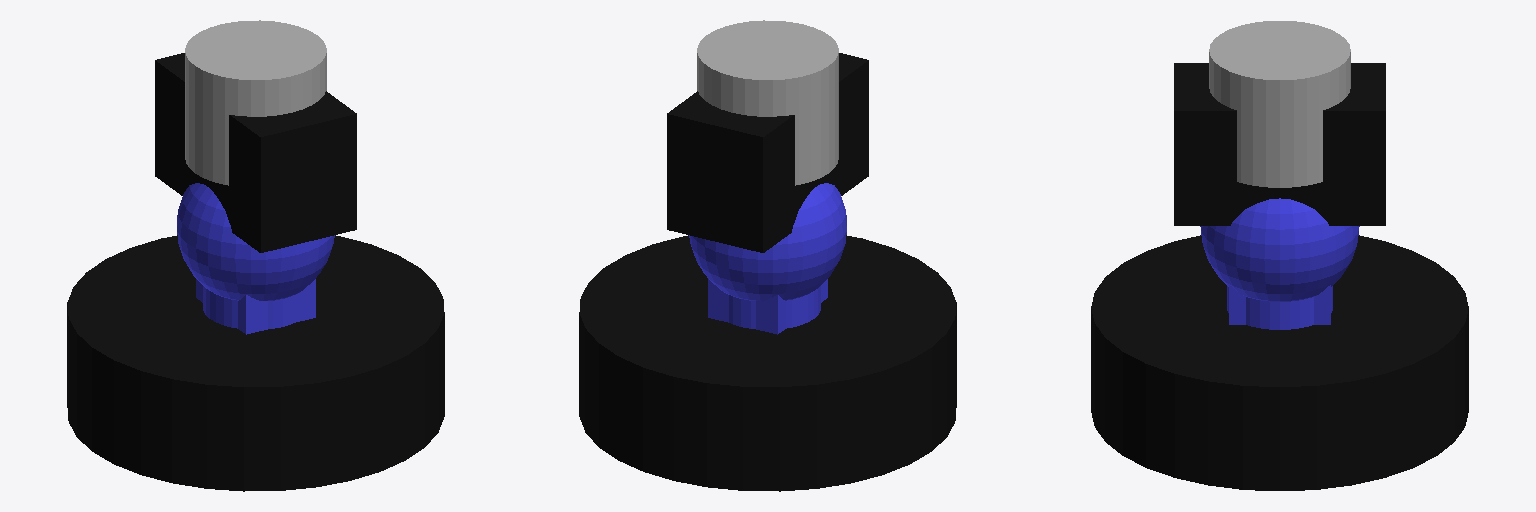
The robot description file, URDF, robot "evolved_robot":
<?xml version="1.0"?>
<robot name="evolved_robot">
  <material name="metal">
    <color rgba="0.7 0.7 0.7 1.0"/>
  </material>
  <material name="plastic">
    <color rgba="0.3 0.3 0.9 1.0"/>
  </material>
  <material name="rubber">
    <color rgba="0.1 0.1 0.1 1.0"/>
  </material>
  <material name="red">
    <color rgba="1.0 0.0 0.0 1.0"/>
  </material>
  <material name="wheel_material">
    <color rgba="0.2 0.2 0.2 1.0"/>
  </material>
  <link name="base_link">
    <visual>
      <geometry><cylinder radius="0.21050239946779015" length="0.12805940470670749"/></geometry>
      <material name="rubber"/>
    </visual>
    <collision>
      <geometry><cylinder radius="0.21050239946779015" length="0.12805940470670749"/></geometry>
    </collision>
    <inertial>
      <mass value="5.0"/>
      <inertia ixx="0.12444415973243968" ixy="0" ixz="0" 
               iyy="0.12444415973243968" iyz="0" 
               izz="0.2215563009084855"/>
    </inertial>
  </link>
  <link name="link1">
    <visual>
      <geometry><cylinder radius="0.05935357784268451" length="0.07570931910548462"/></geometry>
      <material name="plastic"/>
    </visual>
    <collision>
      <geometry><cylinder radius="0.05935357784268451" length="0.07570931910548462"/></geometry>
    </collision>
    <inertial>
      <mass value="0.5"/>
      <inertia ixx="0.0013583702172999107" ixy="0" ixz="0" 
               iyy="0.0013583702172999107" iyz="0" 
               izz="0.001761423601363805"/>
    </inertial>
  </link>
  <joint name="joint1" type="revolute">
    <parent link="base_link"/>
    <child link="link1"/>
    <origin xyz="0 0 0.06402970235335374" rpy="0 0 0"/>
    <axis xyz="-0.7525576835677988 -0.20111363708303587 0.627064779653826"/>
    <dynamics damping="0.1061254823494493" friction="0.1"/>
    <limit lower="-2.445429088284025" upper="2.5833382780369245" effort="100" velocity="100"/>
  </joint>
  <link name="link2">
    <visual>
      <geometry><box size="0.09019671667807586 0.11283898377872704 0.24986356730430942"/></geometry>
      <material name="plastic"/>
    </visual>
    <collision>
      <geometry><box size="0.09019671667807586 0.11283898377872704 0.24986356730430942"/></geometry>
    </collision>
    <inertial>
      <mass value="0.5"/>
      <inertia ixx="0.006263703210520916" ixy="0" ixz="0" 
               iyy="0.00588060416379502" iyz="0" 
               izz="0.0017390069966434095"/>
    </inertial>
  </link>
  <joint name="joint2" type="floating">
    <parent link="base_link"/>
    <child link="link2"/>
    <origin xyz="0 0 0.11402970235335375" rpy="0 0 0"/>
    <axis xyz="0.27964030066089113 0.8414221423711573 0.4623960213646072"/>
    <dynamics damping="0.8918216140598217" friction="0.1"/>
  </joint>
  <link name="link3">
    <visual>
      <geometry><sphere radius="0.0887240861987725"/></geometry>
      <material name="plastic"/>
    </visual>
    <collision>
      <geometry><sphere radius="0.0887240861987725"/></geometry>
    </collision>
    <inertial>
      <mass value="0.5"/>
      <inertia ixx="0.0031487853887228858" ixy="0" ixz="0" 
               iyy="0.0031487853887228858" iyz="0" 
               izz="0.0031487853887228858"/>
    </inertial>
  </link>
  <joint name="joint3" type="fixed">
    <parent link="base_link"/>
    <child link="link3"/>
    <origin xyz="0 0 0.16402970235335373" rpy="0 0 0"/>
    <axis xyz="0.41695542645110933 0.8915817599302395 0.17672050733480366"/>
    <dynamics damping="0.21045667114747402" friction="0.1"/>
  </joint>
  <link name="link4">
    <visual>
      <geometry><sphere radius="0.025425095013624312"/></geometry>
      <material name="rubber"/>
    </visual>
    <collision>
      <geometry><sphere radius="0.025425095013624312"/></geometry>
    </collision>
    <inertial>
      <mass value="0.5"/>
      <inertia ixx="0.00025857418258072953" ixy="0" ixz="0" 
               iyy="0.00025857418258072953" iyz="0" 
               izz="0.00025857418258072953"/>
    </inertial>
  </link>
  <joint name="joint4" type="revolute">
    <parent link="base_link"/>
    <child link="link4"/>
    <origin xyz="0 0 0.21402970235335378" rpy="0 0 0"/>
    <axis xyz="0.9071062299619108 0.22442864154778938 0.3560759363075565"/>
    <dynamics damping="0.29303774938440097" friction="0.1"/>
    <limit lower="-0.0" upper="1.8389894793553705" effort="100" velocity="100"/>
  </joint>
  <link name="link5">
    <visual>
      <geometry><box size="0.12442227178542456 0.23575565926848085 0.14258513625908223"/></geometry>
      <material name="rubber"/>
    </visual>
    <collision>
      <geometry><box size="0.12442227178542456 0.23575565926848085 0.14258513625908223"/></geometry>
    </collision>
    <inertial>
      <mass value="0.5"/>
      <inertia ixx="0.006325937663261424" ixy="0" ixz="0" 
               iyy="0.002984285233188925" iyz="0" 
               izz="0.005921802716113508"/>
    </inertial>
  </link>
  <joint name="joint5" type="prismatic">
    <parent link="base_link"/>
    <child link="link5"/>
    <origin xyz="0 0 0.26402970235335377" rpy="0 0 0"/>
    <axis xyz="0.49569120238020364 -0.6321817240558768 0.5955136435486656"/>
    <dynamics damping="0.9217738192160089" friction="0.1"/>
    <limit lower="-0.06631870370802115" upper="0.8725966209718942" effort="100" velocity="100"/>
  </joint>
  <link name="link6">
    <visual>
      <geometry><cylinder radius="0.07907879835616652" length="0.13223527445061792"/></geometry>
      <material name="metal"/>
    </visual>
    <collision>
      <geometry><cylinder radius="0.07907879835616652" length="0.13223527445061792"/></geometry>
    </collision>
    <inertial>
      <mass value="0.5"/>
      <inertia ixx="0.0030205447381163315" ixy="0" ixz="0" 
               iyy="0.0030205447381163315" iyz="0" 
               izz="0.003126728174727622"/>
    </inertial>
  </link>
  <joint name="joint6" type="revolute">
    <parent link="base_link"/>
    <child link="link6"/>
    <origin xyz="0 0 0.31402970235335376" rpy="0 0 0"/>
    <axis xyz="0.24620687406655126 0.9551432005333206 0.1645710838432511"/>
    <dynamics damping="0.4601416217431744" friction="0.1"/>
    <limit lower="-0.45957136471378096" upper="1.5631693636868569" effort="100" velocity="100"/>
  </joint>
</robot>

--- Render facts (derived) ---
Views: 3 orthographic renders of the robot side by side, from view 1: azimuth 30°, elevation 25°; view 2: azimuth 150°, elevation 25°; view 3: azimuth 270°, elevation 25°.
Robot: evolved_robot — 7 links, 6 joints (3 revolute, 1 prismatic, 1 fixed, 1 floating); root link base_link; default pose: all joints at 0.
Links seen in each view (by area): view 1: base_link, link5, link6, link3, link2, link1; view 2: base_link, link5, link6, link3, link2, link1; view 3: base_link, link5, link6, link3, link1, link2.
Link boxes in pixels (box(x1,y1,x2,y2)): base_link: box(67, 235, 444, 491); link5: box(155, 53, 356, 252); link6: box(185, 20, 326, 185); link3: box(177, 183, 334, 300); link2: box(196, 279, 315, 334); link1: box(203, 286, 294, 328); base_link: box(579, 235, 956, 491); link5: box(667, 53, 868, 252); link6: box(697, 20, 838, 185); link3: box(689, 183, 846, 300); link2: box(708, 279, 827, 334); link1: box(729, 286, 820, 328); base_link: box(1091, 235, 1468, 490); link5: box(1174, 63, 1385, 225); link6: box(1209, 21, 1350, 187); link3: box(1200, 198, 1359, 301); link1: box(1227, 286, 1332, 329); link2: box(1229, 285, 1330, 324).
Size in the robot's own frame: 0.421 by 0.421 by 0.4442 metres.
Geometry: primitives only (box / cylinder / sphere), no mesh files.